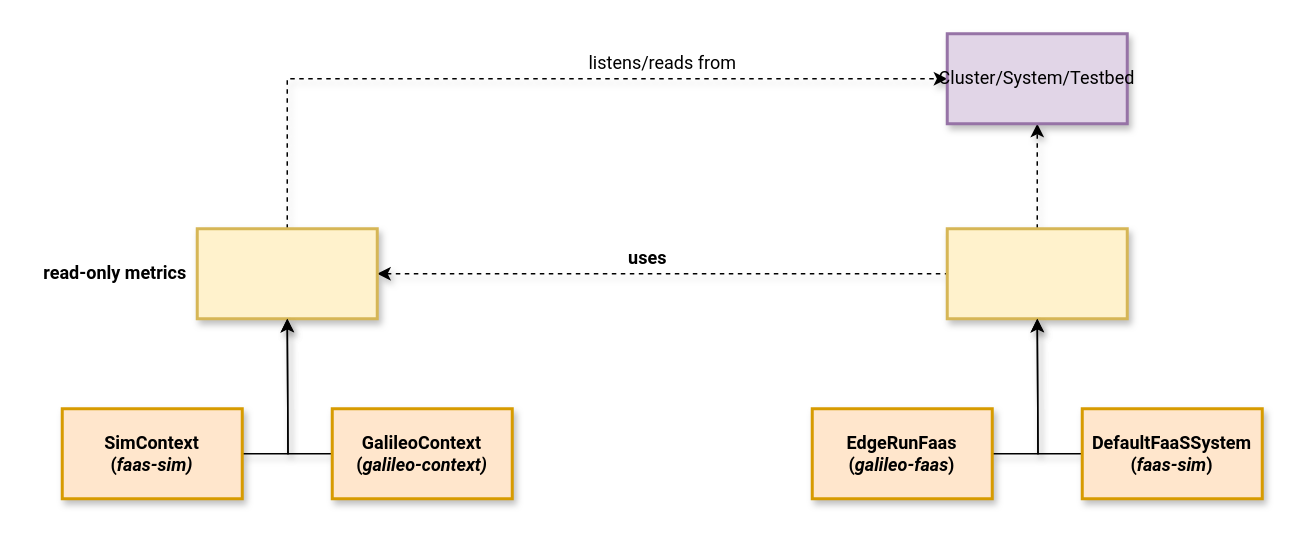
The diagram is 1298 pixels wide and 536 high, and some of its shapes have lost their labels. Each missing label, with the centre of its shape:
"FaaSSystem" goes at point (1038, 275).
"PlatformContext" goes at point (288, 275).
